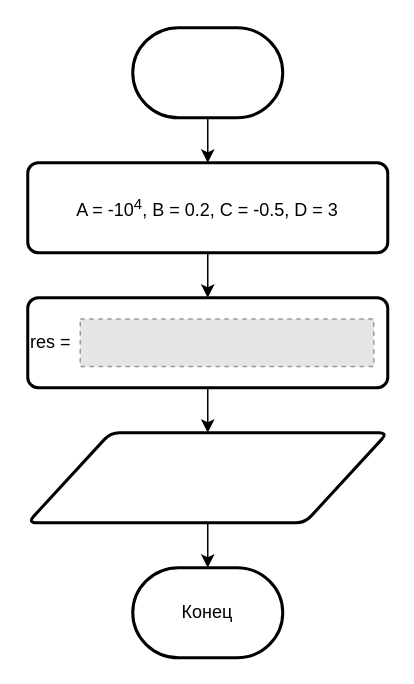
The diagram is 414 pixels wide and 684 high, and some of its shapes have lost their labels. Grey dashed boxes stand in for pictures. Here are the shapes that lost their labels. From the top down, the centre of each, then its label:
At pixel 207 72: "Начало".
At pixel 207 477: "Вывести res".
